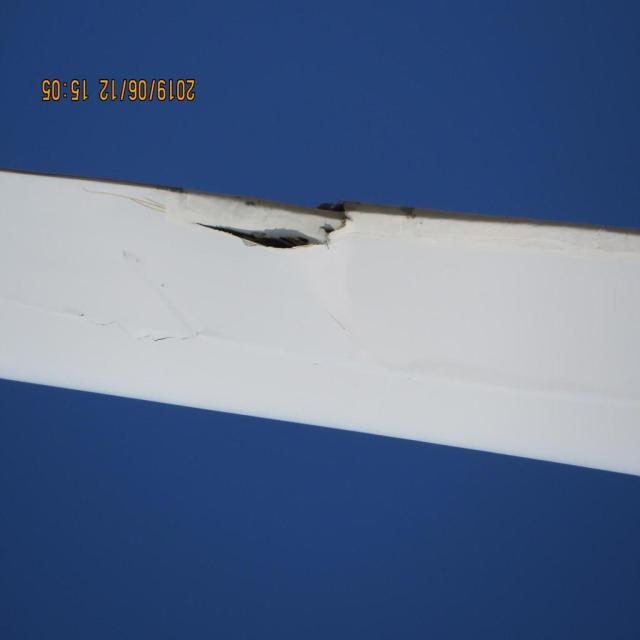crack: (184, 190, 365, 253)
